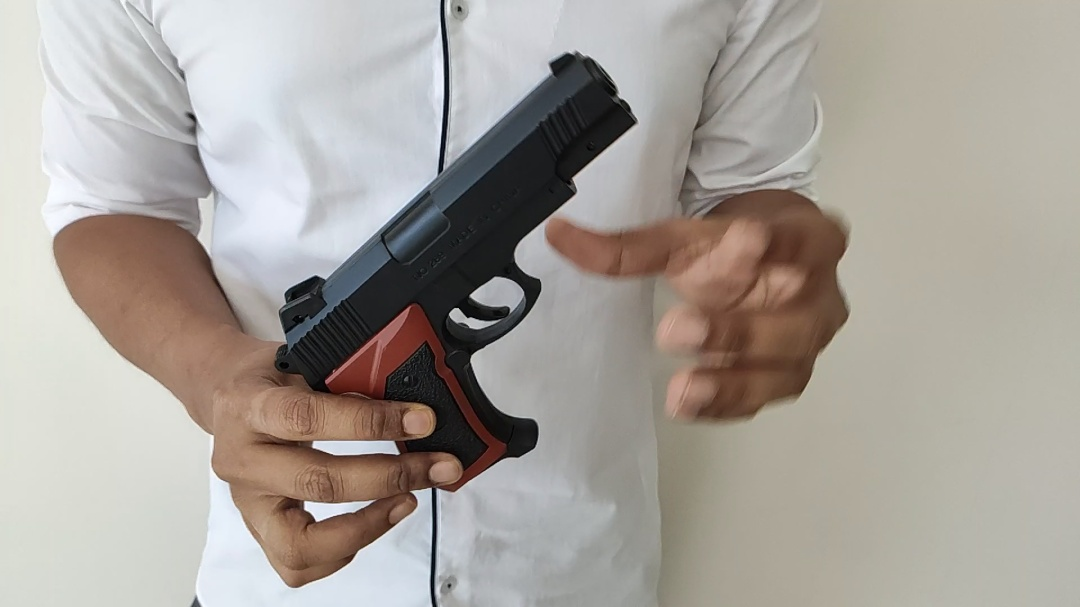gun: (422, 5, 661, 339)
